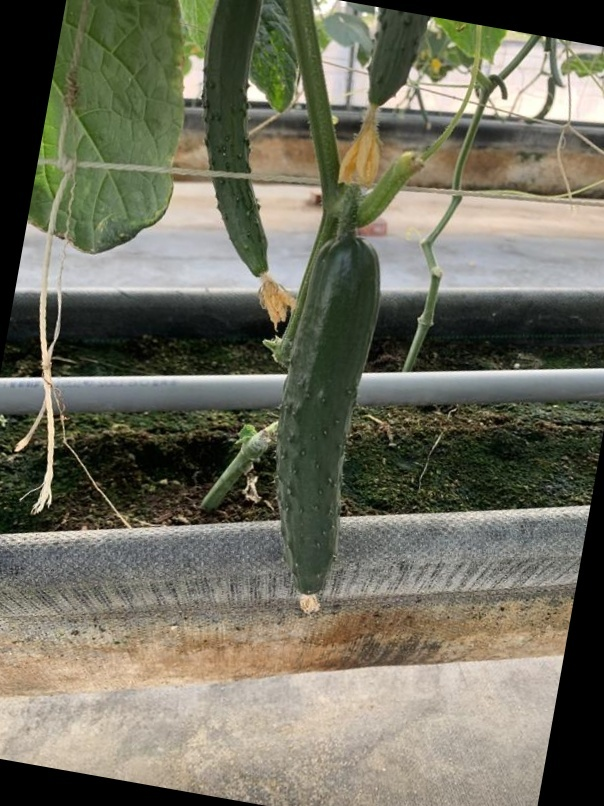mature: (278, 231, 382, 603), (201, 0, 279, 279)
